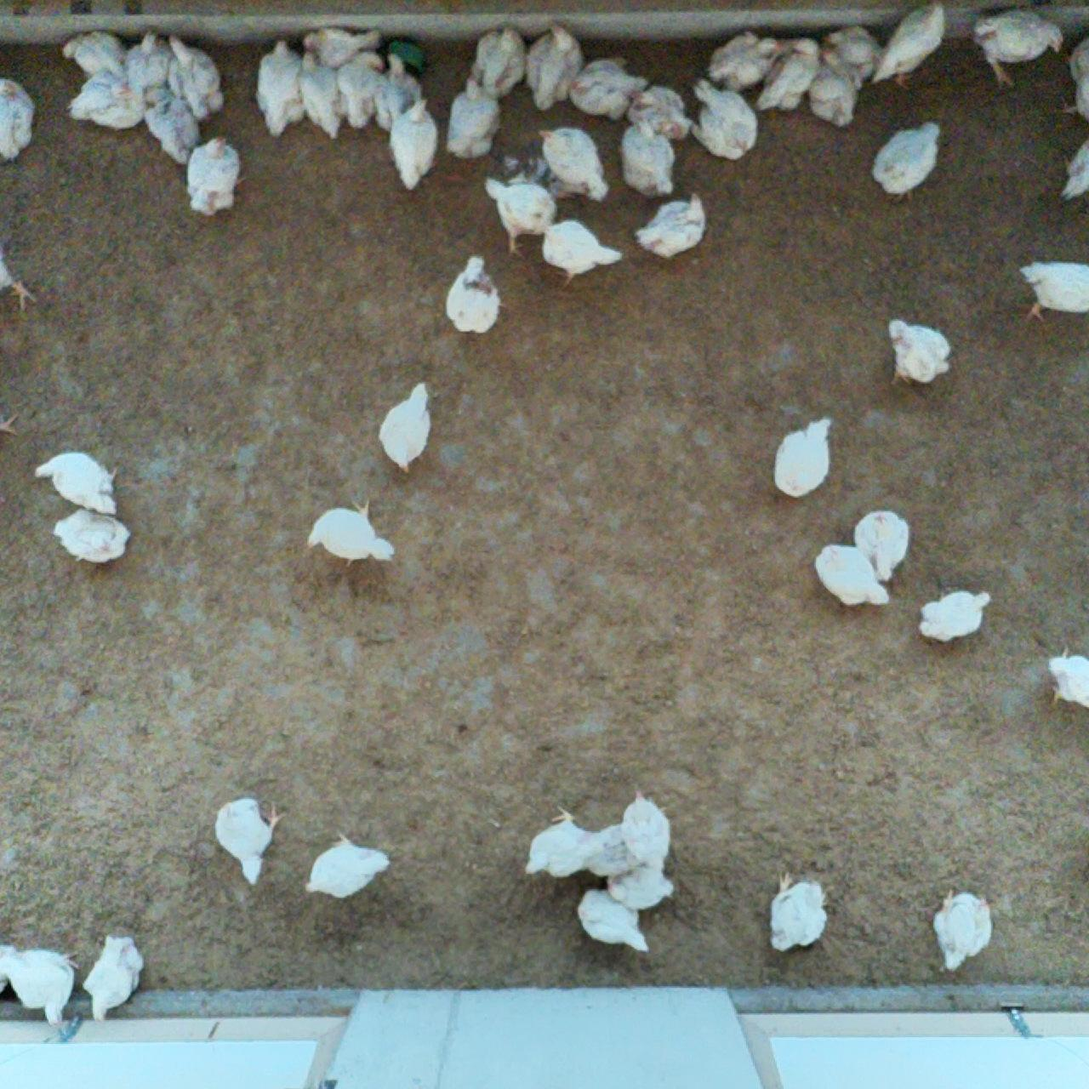chicken: (973, 6, 1062, 90), (872, 0, 948, 91), (214, 794, 287, 885), (869, 117, 945, 204), (685, 75, 759, 163), (303, 499, 397, 568), (533, 124, 613, 205), (0, 943, 80, 1024), (305, 827, 392, 899), (538, 216, 624, 288), (931, 884, 996, 977), (374, 378, 435, 476), (162, 34, 227, 124), (766, 872, 833, 958), (525, 806, 597, 885), (84, 931, 146, 1022), (33, 448, 117, 515), (485, 177, 559, 253), (569, 52, 649, 122), (381, 96, 438, 193), (256, 33, 309, 137), (772, 413, 832, 503), (524, 21, 582, 113), (705, 26, 783, 94), (63, 70, 147, 133), (632, 191, 710, 258), (848, 508, 915, 586), (885, 317, 956, 390), (812, 544, 891, 609), (182, 132, 242, 217), (574, 886, 650, 953), (755, 35, 817, 117), (447, 73, 505, 160), (444, 254, 503, 338), (145, 82, 202, 168), (617, 115, 676, 198), (290, 50, 345, 139), (51, 506, 132, 565), (821, 25, 890, 93), (1016, 258, 1089, 322), (918, 587, 995, 646), (809, 49, 862, 132), (334, 44, 384, 131), (626, 78, 694, 141), (618, 789, 670, 871), (469, 23, 527, 96), (371, 53, 422, 133), (302, 22, 386, 69), (604, 862, 681, 912), (58, 29, 128, 83), (127, 29, 173, 111), (583, 821, 643, 879), (1054, 29, 1089, 128), (0, 75, 35, 161), (1042, 647, 1089, 710), (0, 242, 36, 310), (1055, 135, 1089, 202)
